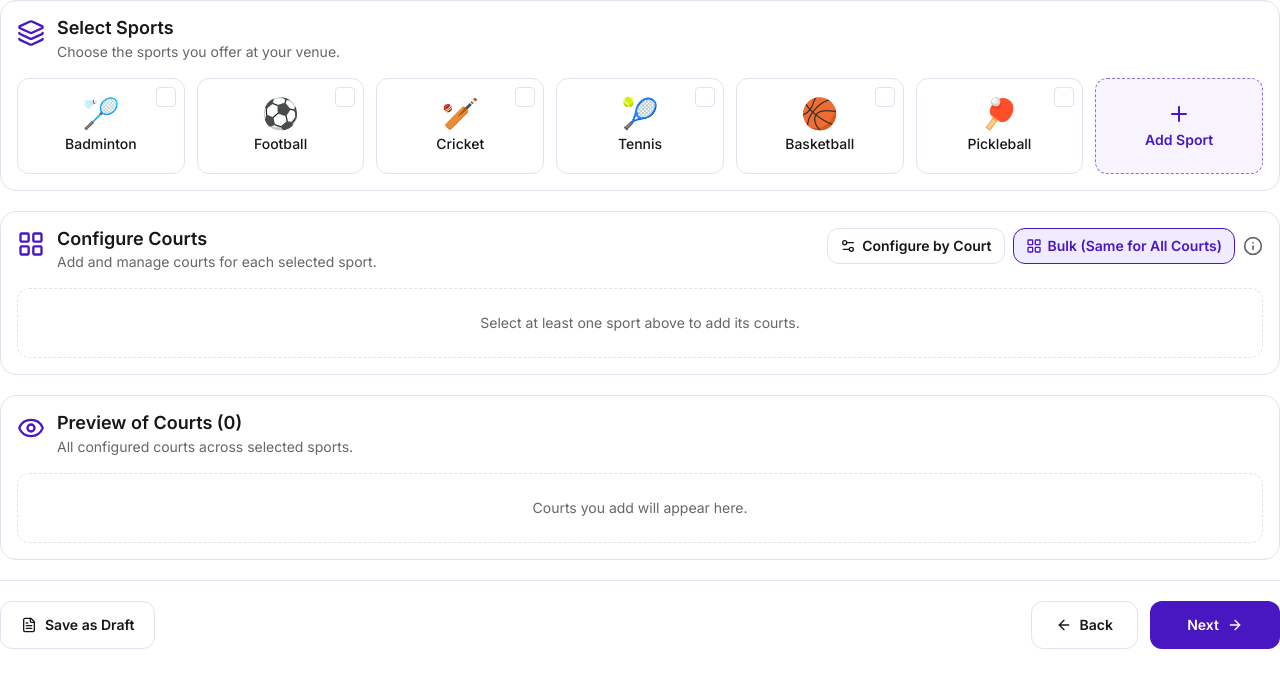
Scenario: SportsCourtsForm › adds and removes courts, numbering from the highest name so a name is never reused
This screenshot has width=1280, height=699.
Click the checkbox labelled "Badminton" at [101, 126], box [17, 78, 185, 174]
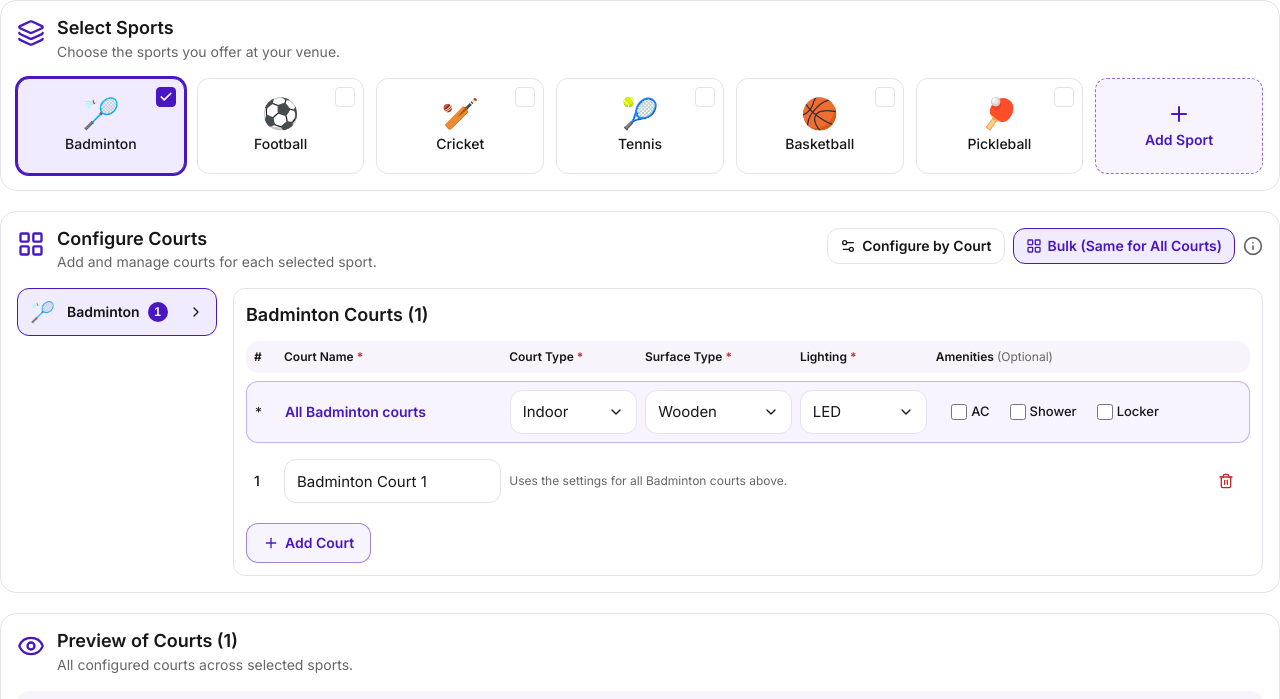
Click the button "Add Court" at [309, 543], box [246, 523, 371, 563]
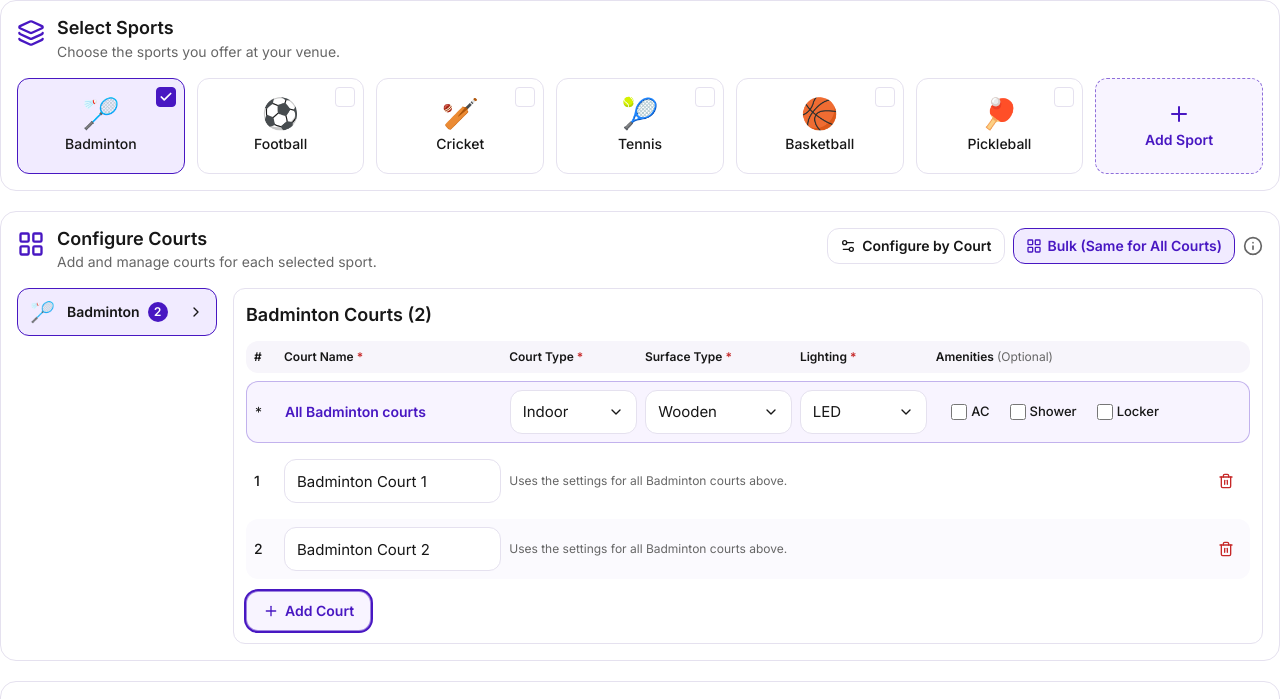
Click the button "Add Court" at [309, 611], box [246, 591, 371, 631]
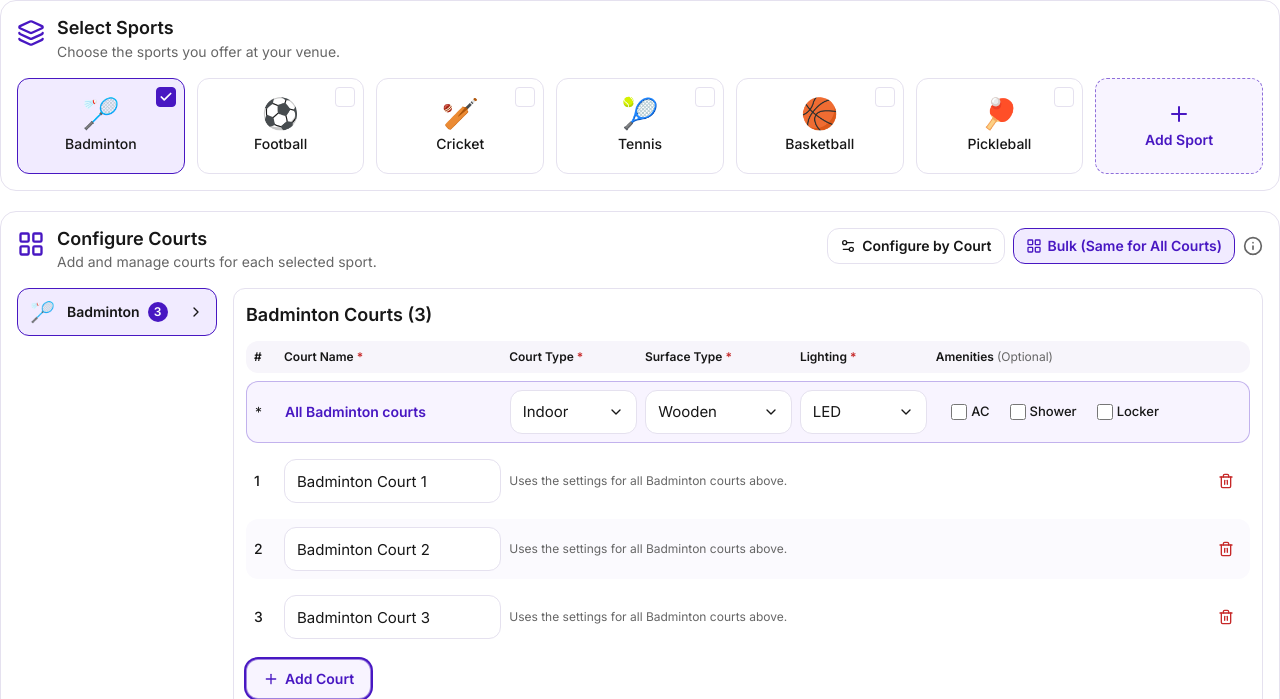
Expected: the heading "Badminton Courts (3)" is shown, [246, 304, 432, 325]
Click the button named "Remove Badminton Court 2" at [1226, 549], box [1210, 527, 1242, 571]
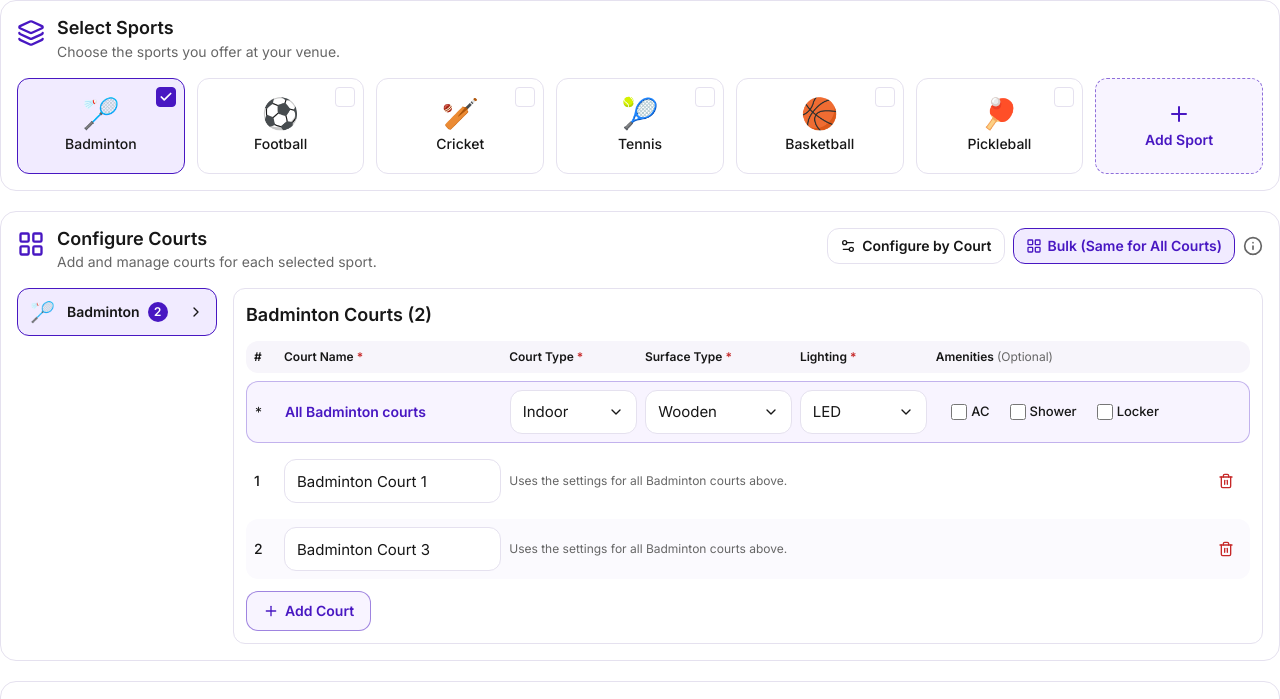
Expected: the heading "Badminton Courts (2)" is shown, [246, 304, 432, 325]
Click the button "Add Court" at [309, 611], box [246, 591, 371, 631]
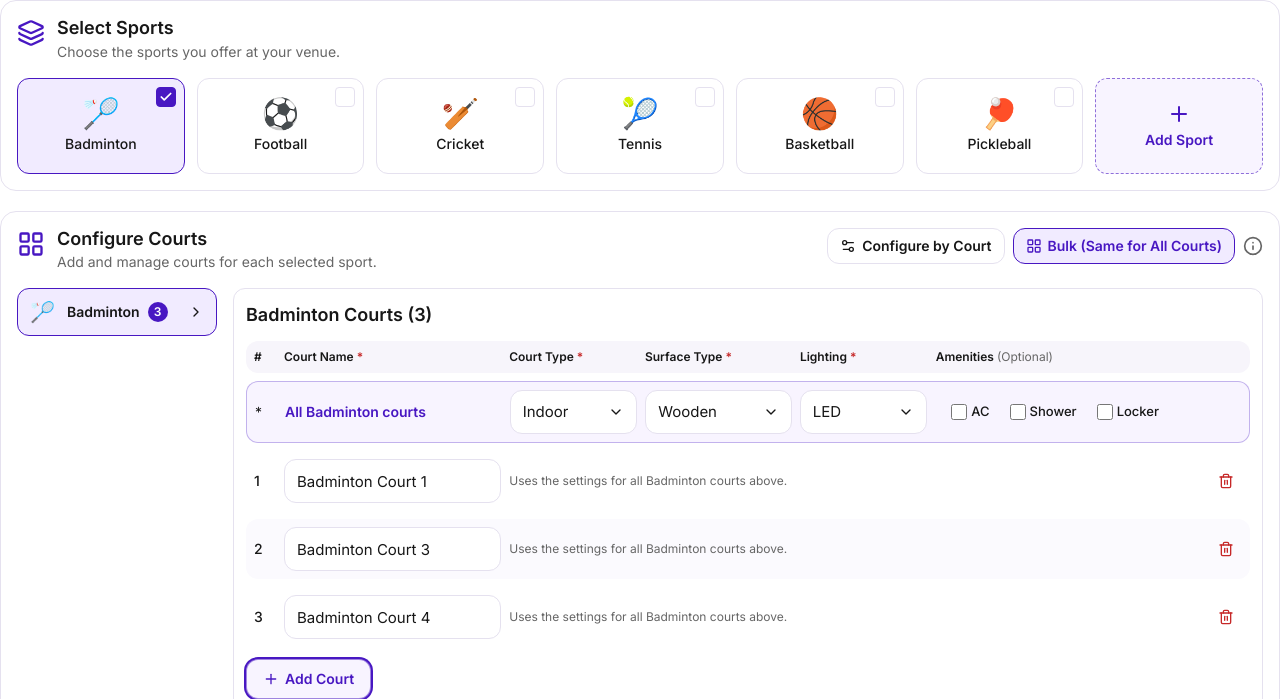
Expected: the field showing "Badminton Court 2" is not shown
Expected: the field showing "Badminton Court 4" is shown, [284, 595, 501, 639]
